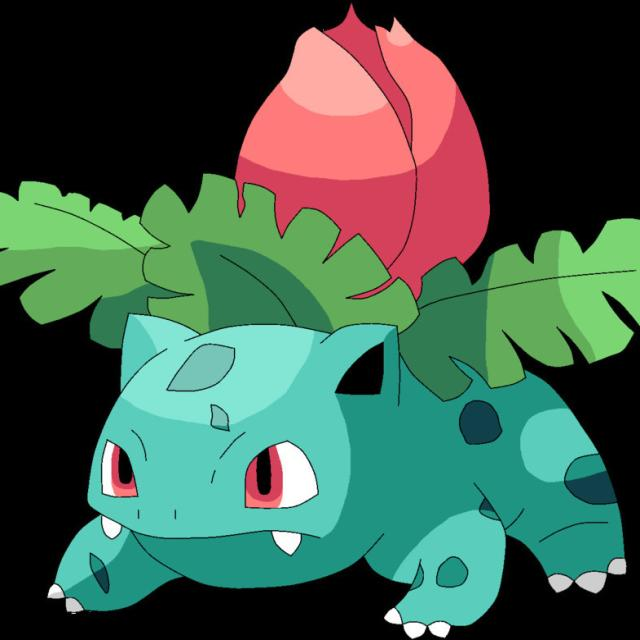Ivysaur: (66, 22, 520, 602)
